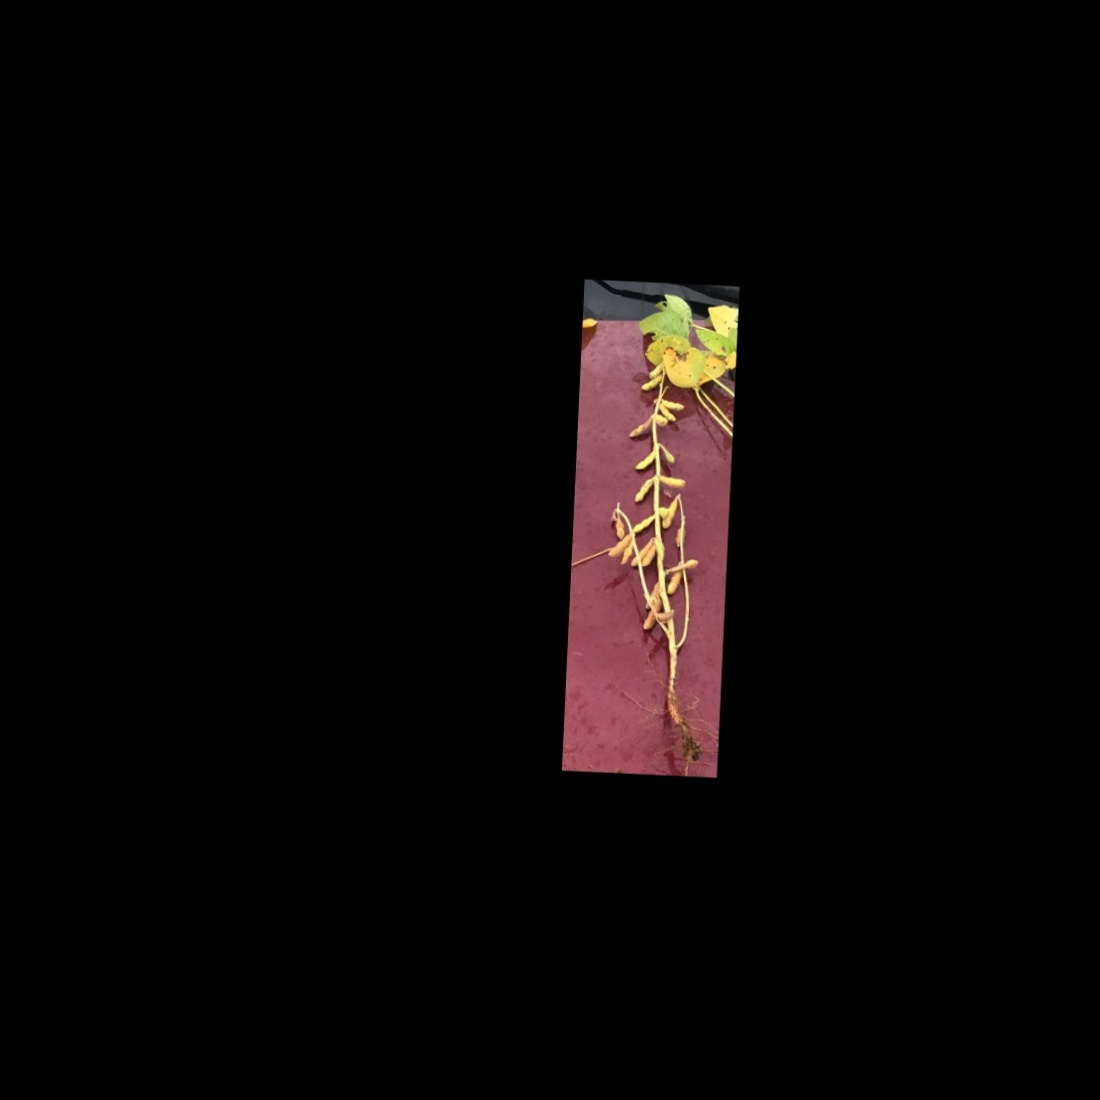pod: (629, 473, 656, 506), (632, 443, 657, 473), (606, 530, 632, 559), (627, 513, 656, 537), (638, 370, 666, 394), (658, 471, 695, 490), (653, 401, 680, 423), (639, 542, 657, 570), (658, 398, 684, 412)
soy: (570, 286, 730, 759)
